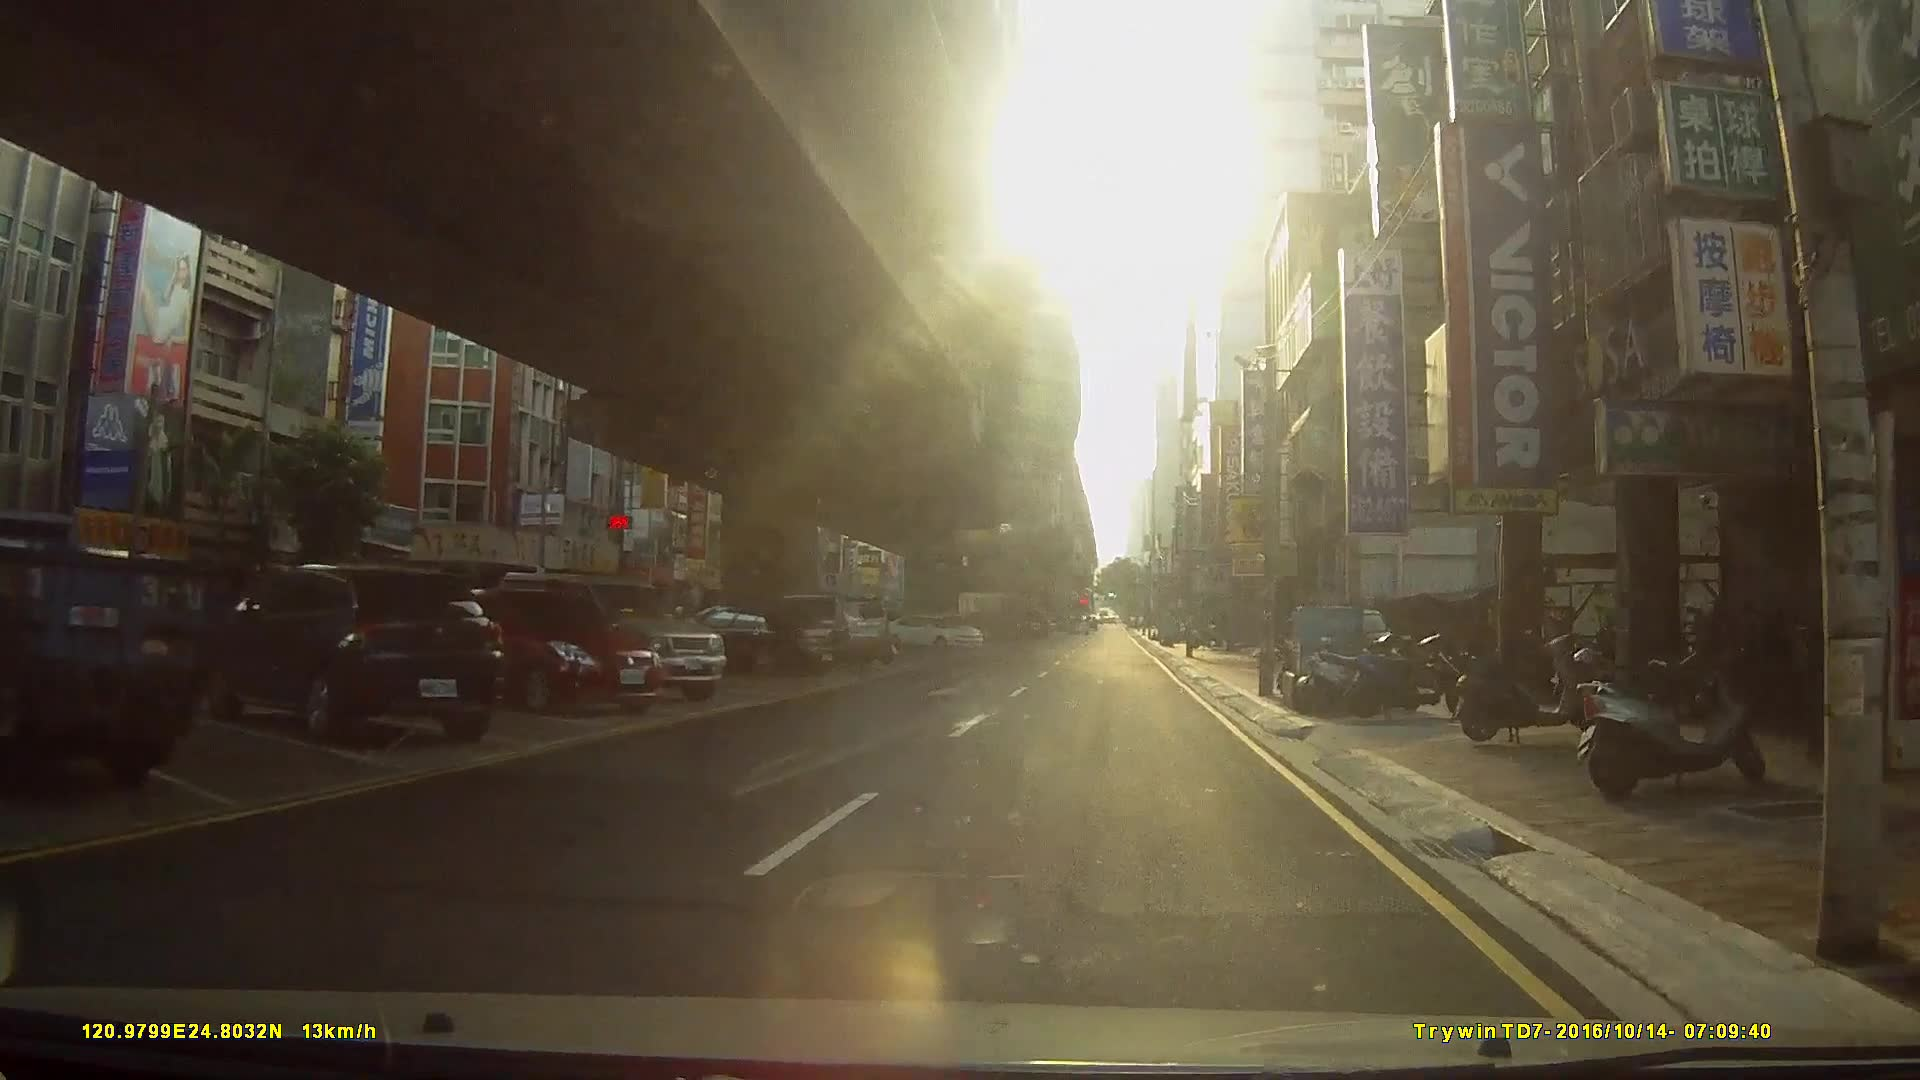vehicle: (0, 508, 216, 793), (208, 564, 498, 744), (493, 568, 728, 705), (446, 582, 665, 713), (662, 603, 839, 676), (742, 591, 891, 669), (886, 613, 985, 654)
